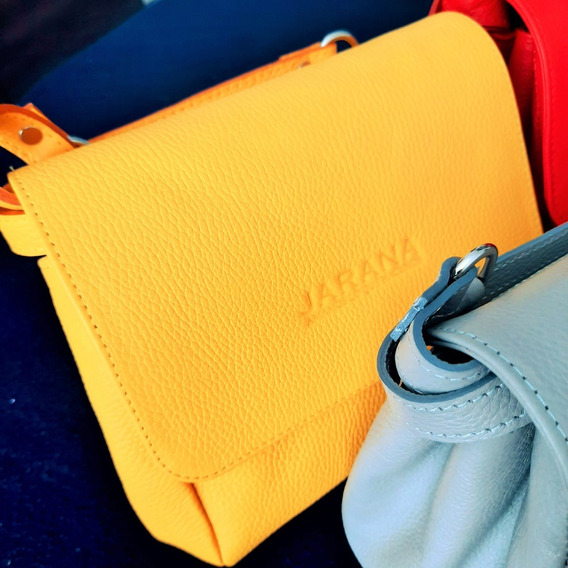cartera: (16, 10, 549, 568)
